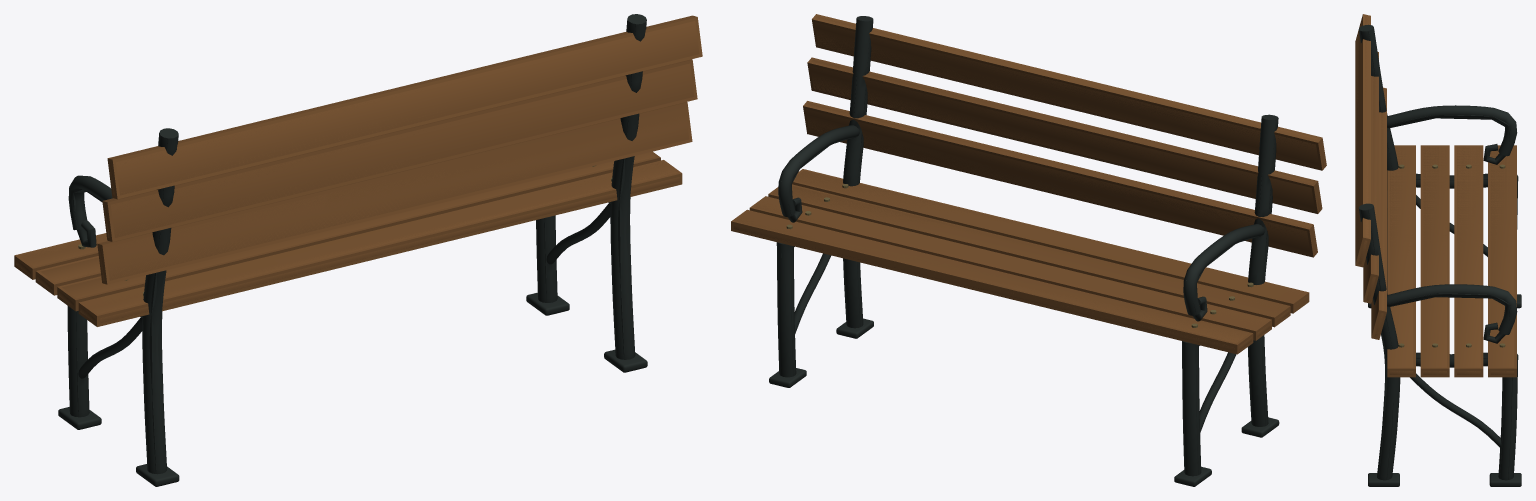
File: banco.glb
3 views of the same model, side by side, from view 1: azimuth 30°, elevation 25°; view 2: azimuth 150°, elevation 25°; view 3: azimuth 270°, elevation 25° (orthographic). The views are drawn at different scales.
Parts seen in each view (by area): view 1: hd, lo; view 2: lo, hd; view 3: hd, lo.
Boxes of the visible parts, x1,y1,x2,y2 form: hd: [16, 14, 699, 486]; lo: [14, 15, 702, 473]; lo: [731, 14, 1326, 475]; hd: [733, 16, 1323, 486]; hd: [1355, 15, 1521, 486]; lo: [1355, 14, 1517, 479].
Bounding box in the file's own units: 1.65 × 0.9555 × 0.5197.
